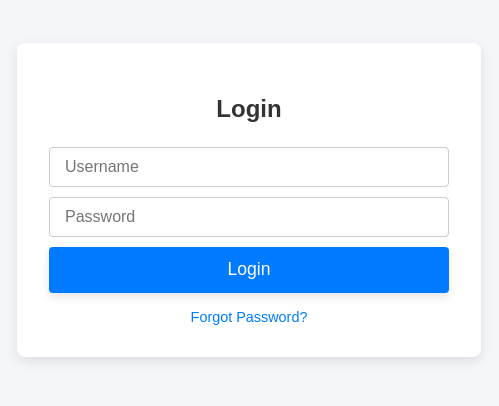
Test: Login Component › displays an error message on failed login
Type "testuser" into the field with placeholder "Username" at (249, 167), box [49,147,449,187]
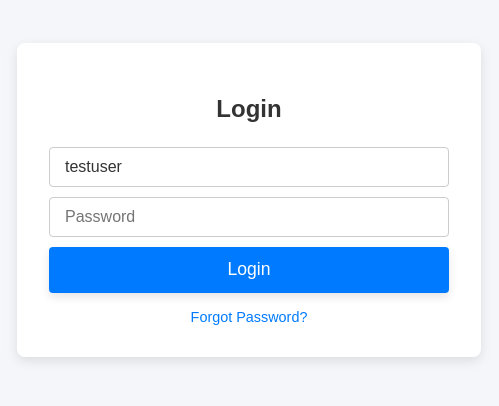
Type "wrongpassword" into the password field with placeholder "Password" at (249, 217), box [49,197,449,237]
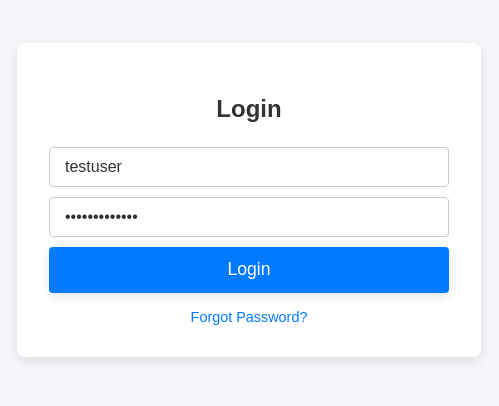
Click the button "Login" at (249, 270), box [49,247,449,293]
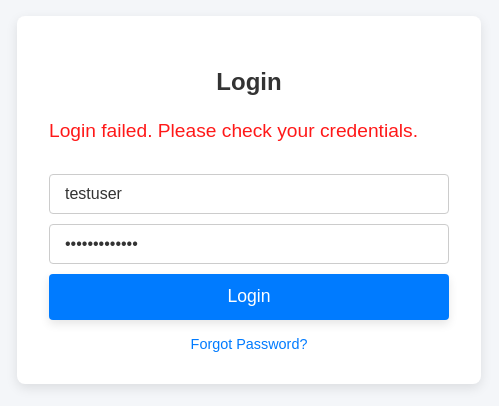
Expected: the text "Login failed. Please check your credentials." is shown, [49,120,449,142]
